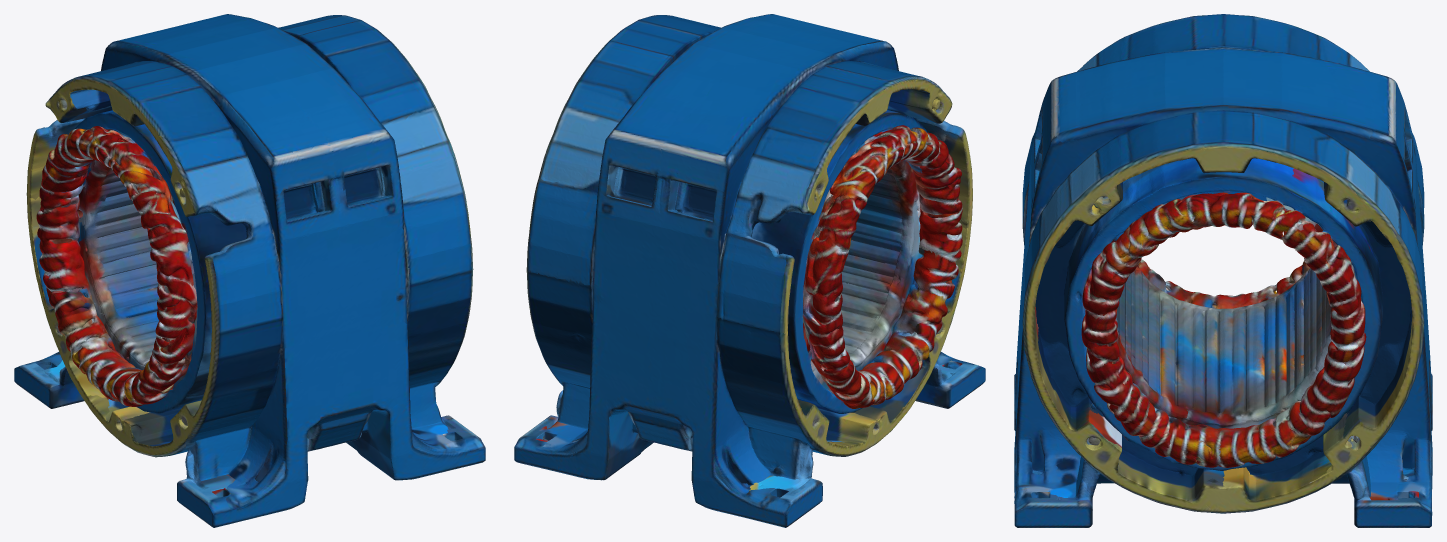
File: estator_bobina.glb
3 views of the same model, side by side, from view 1: azimuth 30°, elevation 25°; view 2: azimuth 150°, elevation 25°; view 3: azimuth 270°, elevation 25° (orthographic). The views are drawn at different scales.
Parts seen in each view (by area): view 1: tripo_node_dd5727c3-978c-4a8f-a394-61df8a2f7af9; view 2: tripo_node_dd5727c3-978c-4a8f-a394-61df8a2f7af9; view 3: tripo_node_dd5727c3-978c-4a8f-a394-61df8a2f7af9.
Boxes of the visible parts, <box> form: tripo_node_dd5727c3-978c-4a8f-a394-61df8a2f7af9: <box>14,14,485,527</box>; tripo_node_dd5727c3-978c-4a8f-a394-61df8a2f7af9: <box>514,14,985,527</box>; tripo_node_dd5727c3-978c-4a8f-a394-61df8a2f7af9: <box>1014,14,1432,527</box>.
Size of the model in its own units: 0.8679 by 1 by 0.9896.
Materials: 1 (1 with a texture image).
